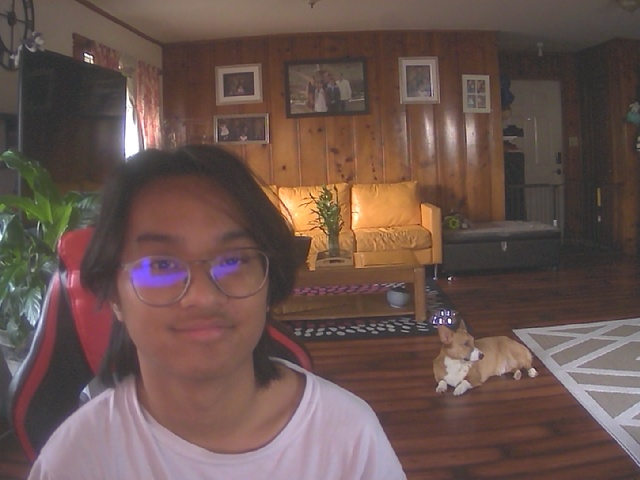happy: (102, 151, 280, 383)
